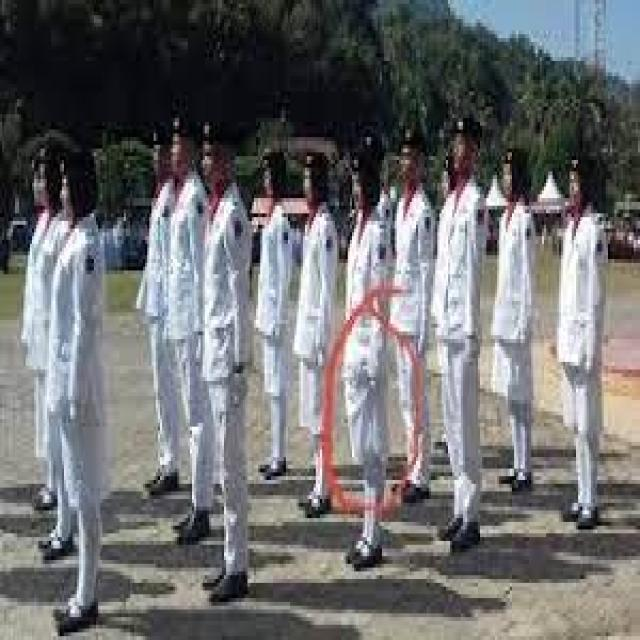peserta: (432, 116, 497, 578), (51, 152, 112, 626), (203, 100, 251, 612), (556, 136, 608, 559), (490, 121, 541, 546), (346, 126, 393, 580), (169, 105, 210, 576), (389, 116, 434, 522), (139, 126, 177, 533), (298, 137, 336, 536), (24, 143, 61, 541), (257, 132, 290, 521)
